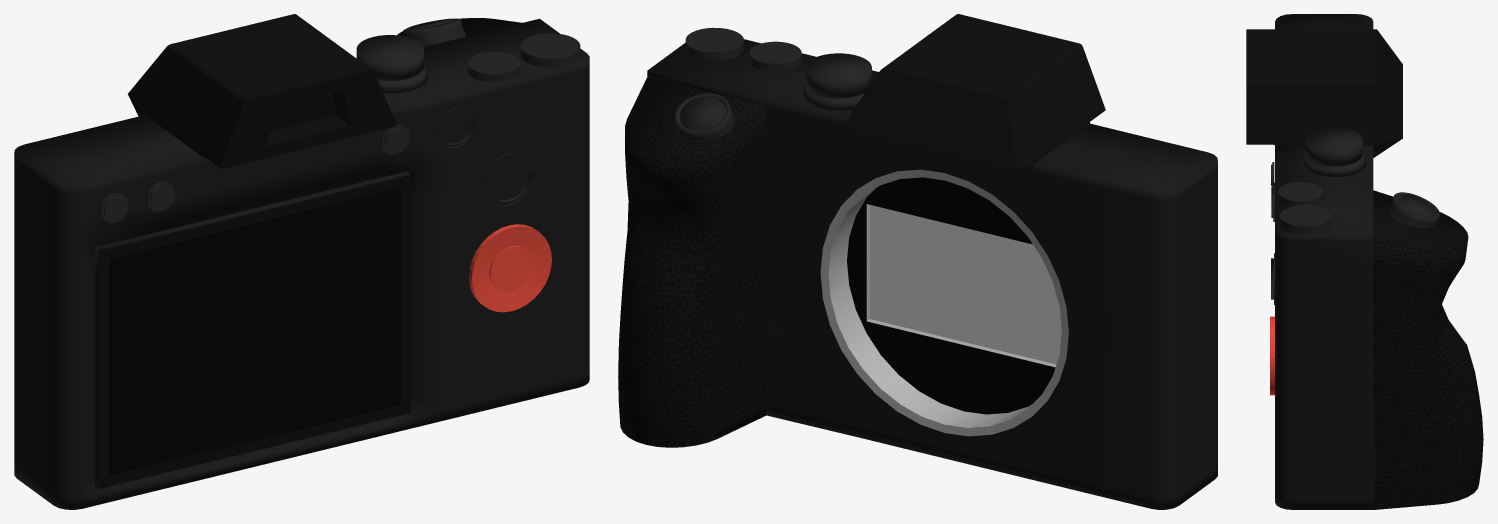
Rendered from cam-final-mats.glb.
3 views of the same model, side by side, from view 1: azimuth 30°, elevation 25°; view 2: azimuth 150°, elevation 25°; view 3: azimuth 270°, elevation 25° (orthographic). The views are drawn at different scales.
Parts seen in each view (by area): view 1: Cam, Display, Viewfinder, Display Frame, Iso Button, Mode Button, Button 2, Button 3, Button, Camera Handle Missing, Button 8, Button 7 (+1 smaller); view 2: Cam, Camera Handle Missing, Viewfinder, Sensor, sensor circle, Sensor Circle, Sensor Inner Circle, Mode Button, Button, Button 2, Button 3, Sensor Frame; view 3: Cam, Camera Handle Missing, Viewfinder, Mode Button, Button, Button 2, Button 3, Iso Button.
Part boxes in pixels (x1,y1,x2,y2): Cam: [14, 18, 589, 509]; Display: [109, 187, 401, 475]; Viewfinder: [128, 14, 396, 168]; Display Frame: [99, 174, 411, 488]; Iso Button: [469, 224, 551, 312]; Mode Button: [356, 35, 427, 93]; Button 2: [520, 33, 580, 67]; Button 3: [467, 51, 520, 82]; Button: [403, 18, 465, 46]; Camera Handle Missing: [397, 18, 522, 46]; Button 8: [100, 193, 128, 222]; Button 7: [146, 181, 174, 211]; Cam: [647, 39, 1217, 509]; Camera Handle Missing: [618, 77, 766, 447]; Viewfinder: [842, 14, 1105, 178]; Sensor: [870, 205, 1061, 364]; sensor circle: [847, 177, 1055, 414]; Sensor Circle: [820, 169, 1068, 436]; Sensor Inner Circle: [828, 188, 1032, 427]; Mode Button: [802, 53, 871, 110]; Button: [674, 93, 735, 140]; Button 2: [685, 27, 743, 61]; Button 3: [749, 41, 801, 71]; Sensor Frame: [866, 204, 1056, 367]; Cam: [1275, 14, 1375, 509]; Camera Handle Missing: [1373, 190, 1483, 509]; Viewfinder: [1246, 29, 1402, 157]; Mode Button: [1301, 127, 1366, 176]; Button: [1386, 192, 1440, 227]; Button 2: [1280, 205, 1330, 234]; Button 3: [1278, 182, 1323, 206]; Iso Button: [1270, 316, 1274, 395].
Size of the model in its own units: 3.46 by 2.39 by 1.57.
Materials: 9 (2 with a texture image).
